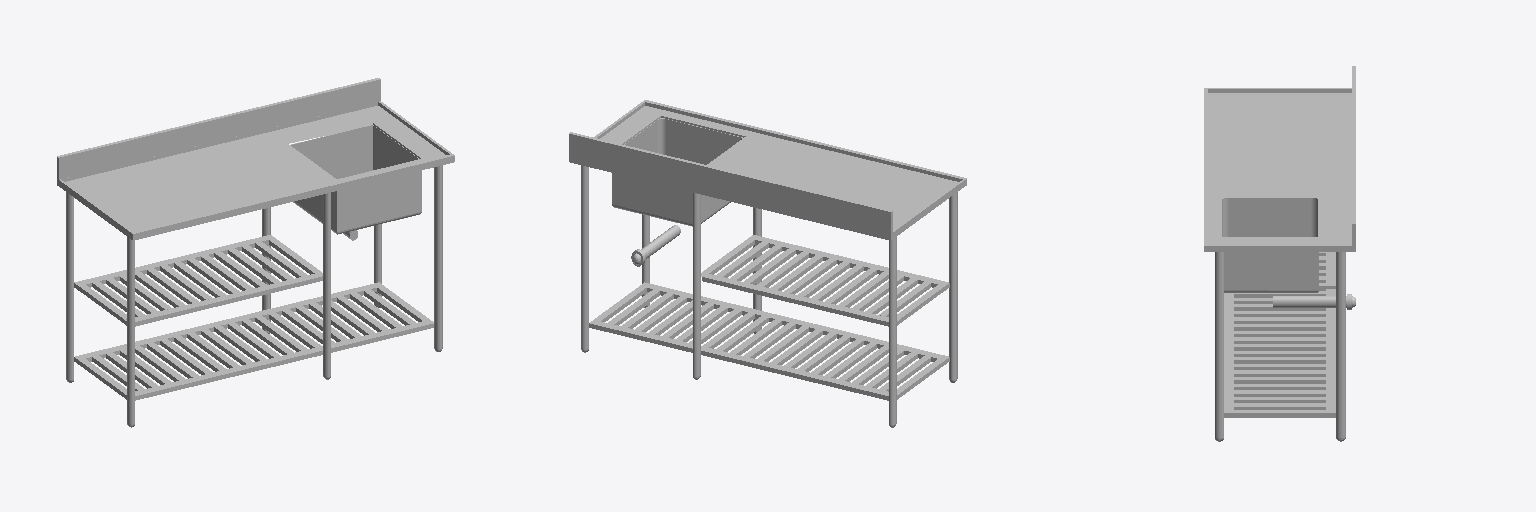
The model's file is Lava_recipientes.obj.
3 renders of one model, left to right at view 1: azimuth 30°, elevation 25°; view 2: azimuth 150°, elevation 25°; view 3: azimuth 270°, elevation 25°, orthographic.
Visible parts, largest first — view 1: BC03_001, Group_2_001, Group_81_001, Group_82_001, Group_56_003, Group_56_001, Group_57_001, Group_56_002, Group_115_001, Group_132_001, Group_113_001; view 2: BC03_001, Group_2_001, Group_82_001, Group_81_001, Group_56_001, Group_57_001, Group_57_003, Group_57_002, Group_115_001, Group_132_001, Group_83_001; view 3: BC03_001, Group_2_001, Group_57_003, Group_56_003, Group_81_001, Group_82_001, Group_83_001, Group_58_001, Group_72_001, Group_71_001, Group_69_001, Group_68_001 (+11 smaller).
Part boxes in pixels (bbox=[...]): BC03_001: bbox=[57, 78, 454, 240]; Group_2_001: bbox=[291, 125, 421, 234]; Group_81_001: bbox=[125, 320, 433, 400]; Group_82_001: bbox=[74, 282, 383, 364]; Group_56_003: bbox=[434, 165, 442, 351]; Group_56_001: bbox=[127, 237, 134, 427]; Group_57_001: bbox=[66, 192, 73, 382]; Group_56_002: bbox=[323, 193, 330, 379]; Group_115_001: bbox=[125, 272, 322, 321]; Group_132_001: bbox=[74, 235, 274, 285]; Group_113_001: bbox=[135, 277, 321, 326]; BC03_001: bbox=[569, 100, 966, 240]; Group_2_001: bbox=[612, 118, 742, 226]; Group_82_001: bbox=[589, 320, 898, 400]; Group_81_001: bbox=[640, 282, 949, 364]; Group_56_001: bbox=[949, 192, 957, 382]; Group_57_001: bbox=[889, 237, 896, 427]; Group_57_003: bbox=[581, 165, 588, 352]; Group_57_002: bbox=[693, 193, 700, 379]; Group_115_001: bbox=[749, 235, 948, 285]; Group_132_001: bbox=[701, 272, 898, 321]; Group_83_001: bbox=[633, 225, 680, 264]; BC03_001: bbox=[1204, 66, 1355, 251]; Group_2_001: bbox=[1221, 197, 1318, 292]; Group_57_003: bbox=[1336, 252, 1345, 441]; Group_56_003: bbox=[1215, 252, 1223, 441]; Group_81_001: bbox=[1224, 293, 1233, 417]; Group_82_001: bbox=[1326, 289, 1335, 417]; Group_83_001: bbox=[1273, 296, 1355, 307]; Group_58_001: bbox=[1234, 410, 1325, 417]; Group_72_001: bbox=[1234, 317, 1325, 323]; Group_71_001: bbox=[1234, 324, 1325, 330]; Group_69_001: bbox=[1234, 337, 1325, 343]; Group_68_001: bbox=[1234, 344, 1325, 350].
Bounding box in the file's own units: 1520 × 1002 × 624.